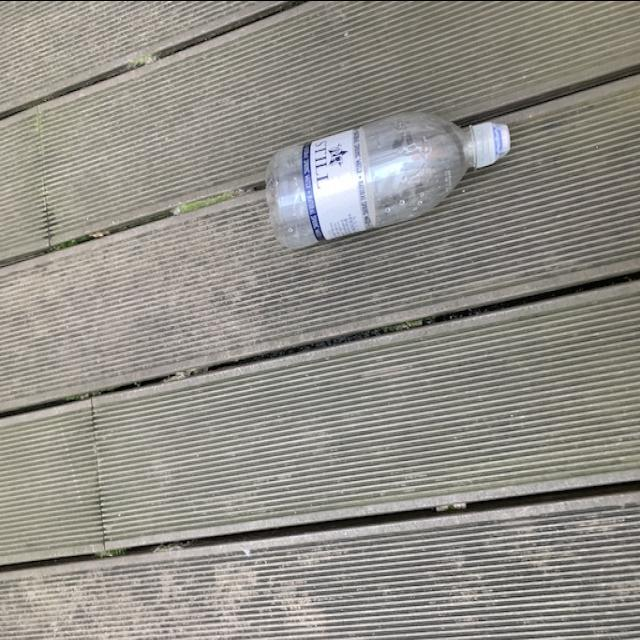litter: (262, 115, 514, 254)
